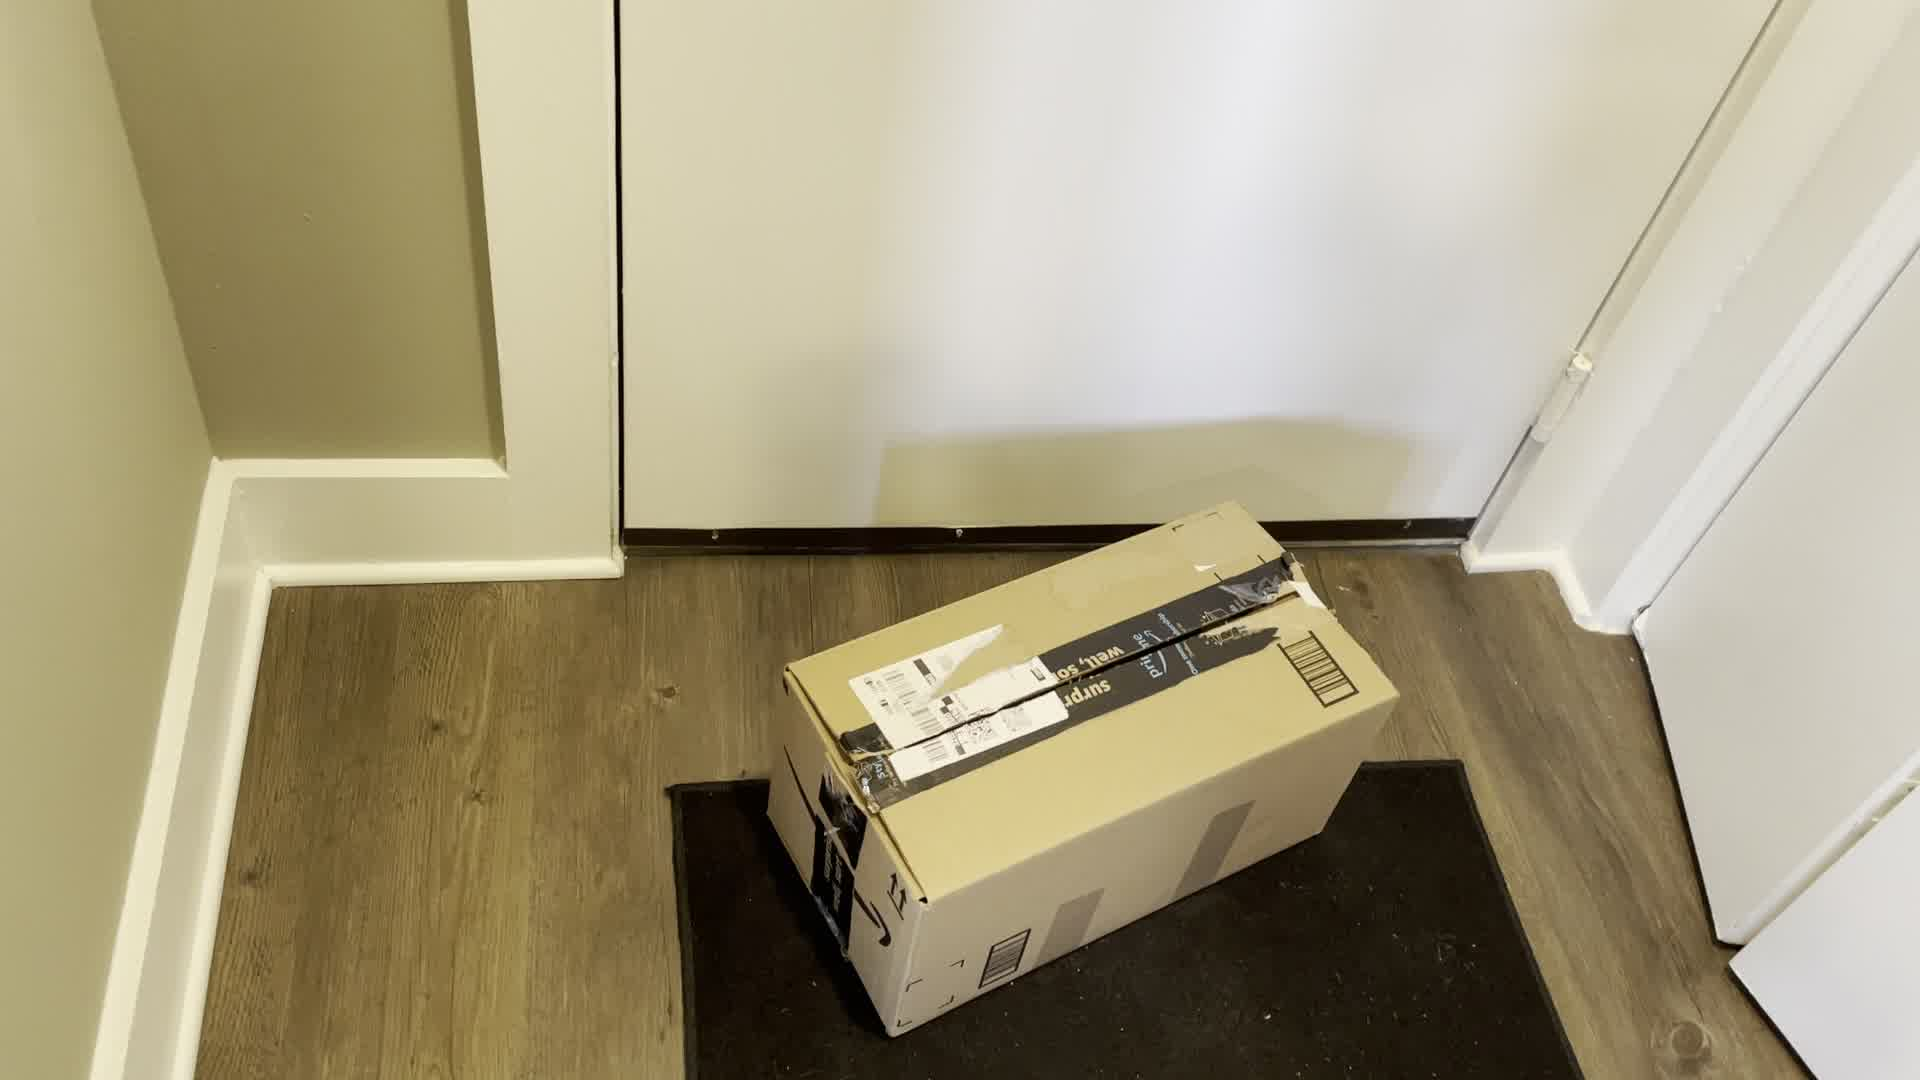box: (692, 512, 1407, 1025)
